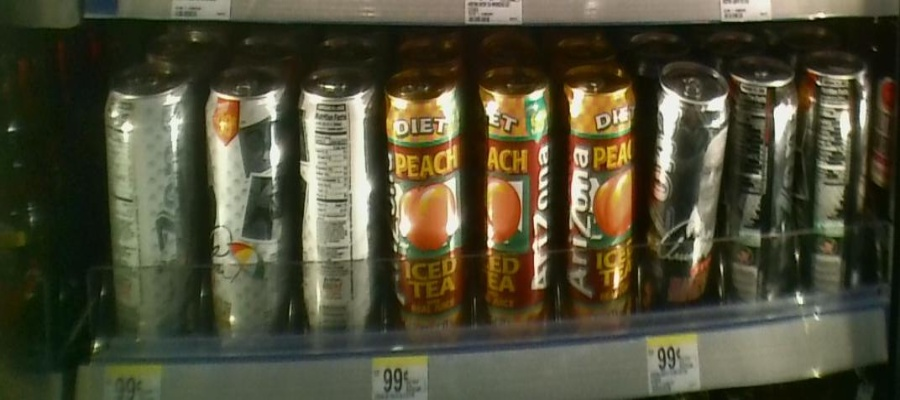bottle: (98, 56, 198, 342), (202, 52, 291, 342), (385, 58, 472, 346), (296, 53, 381, 343), (475, 58, 557, 350), (645, 52, 728, 321), (561, 61, 639, 344), (802, 41, 870, 303), (730, 44, 796, 312)
